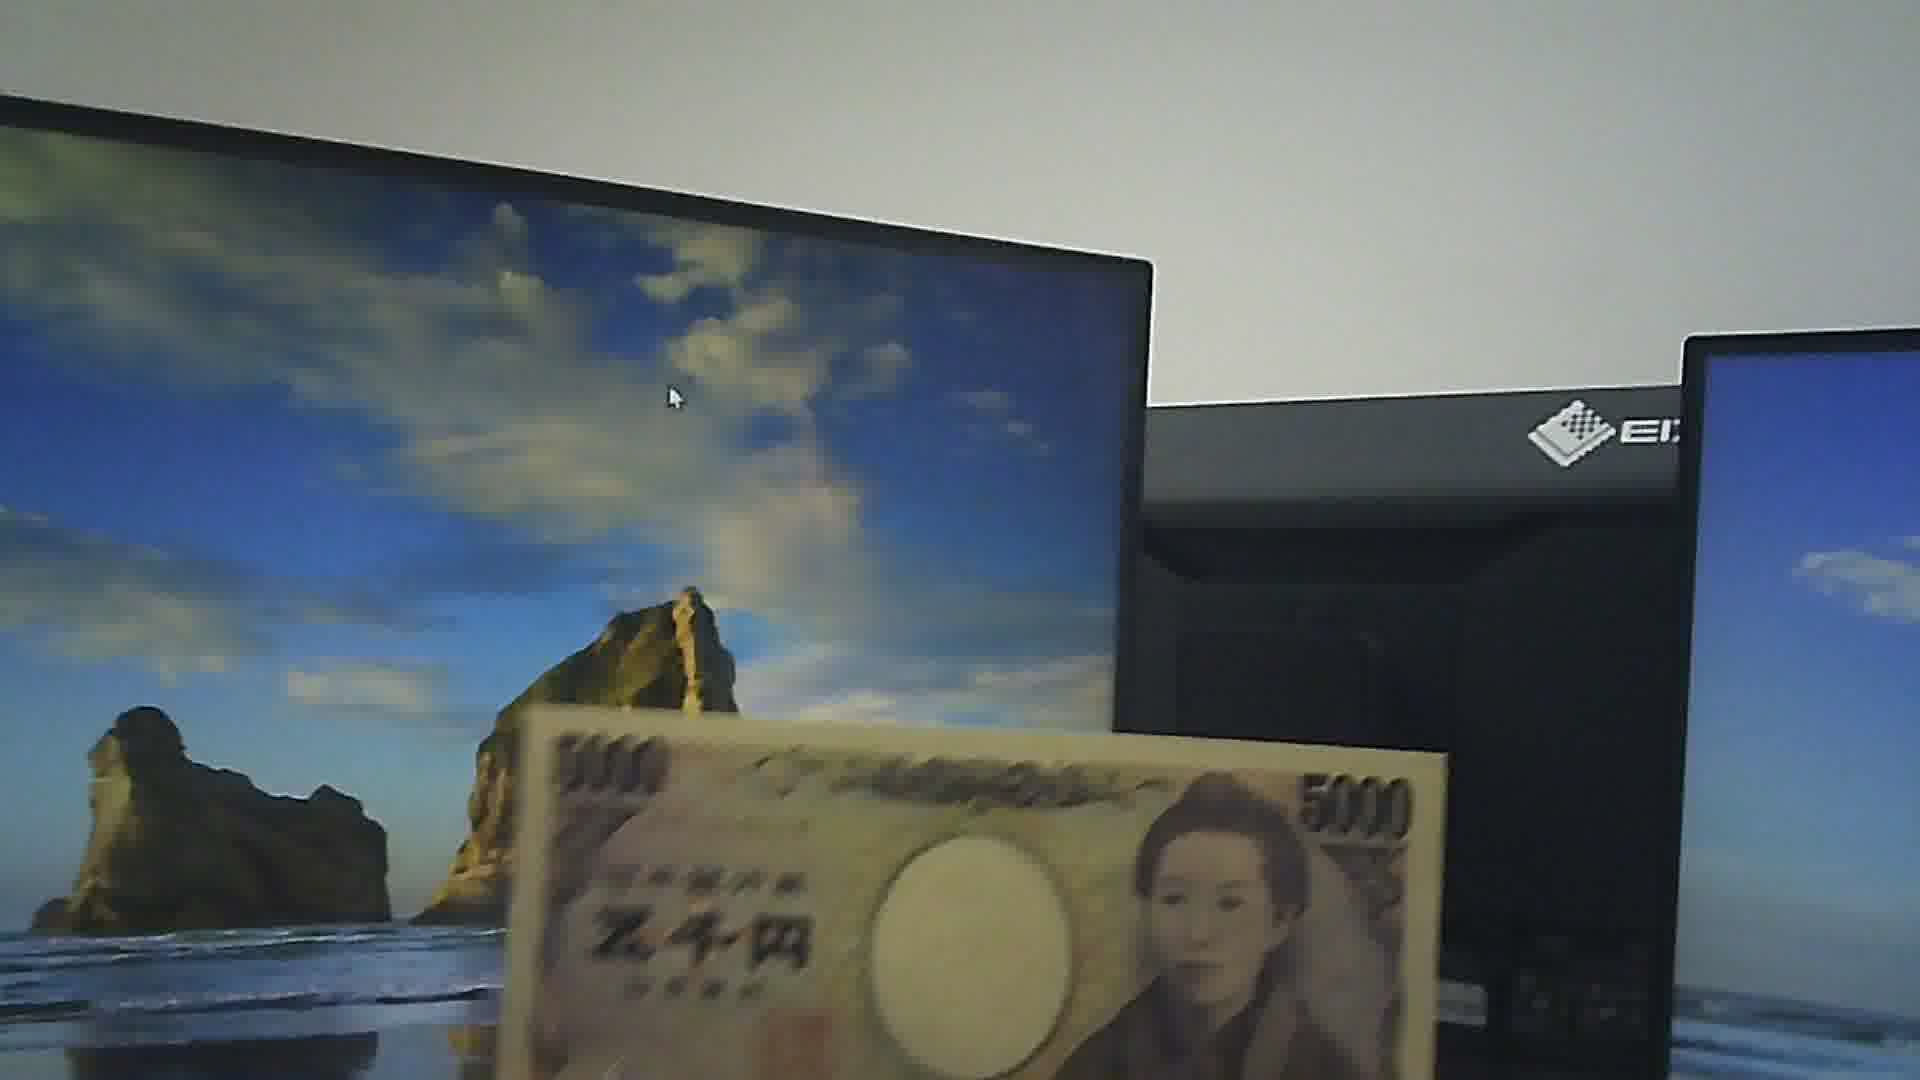5,000 Yen: (496, 698, 1443, 1077)
